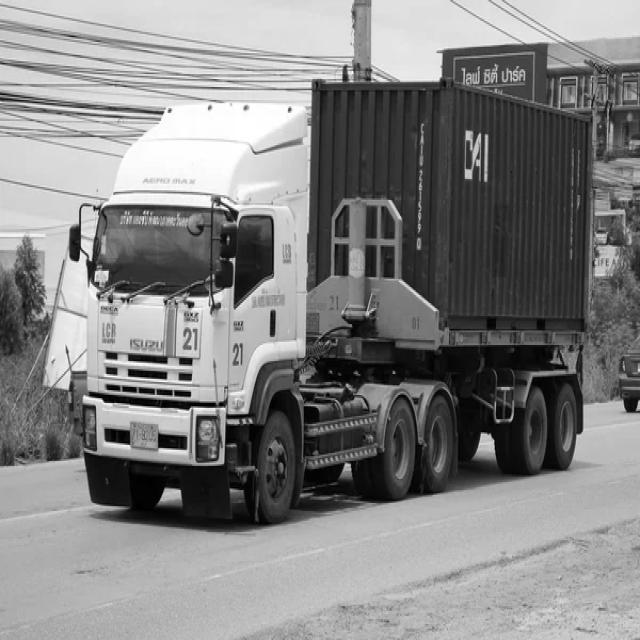Truck: (69, 79, 592, 523)
